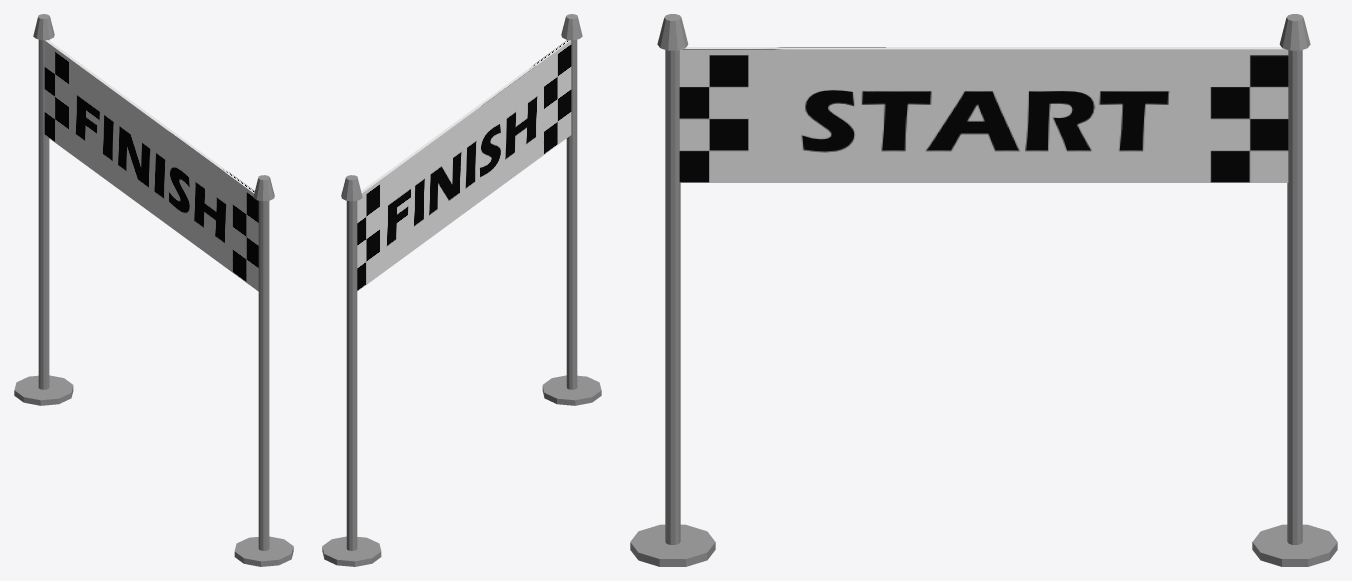
The model's file is BeginFlag.fbx.
3 views of the same model, side by side, from view 1: azimuth 30°, elevation 25°; view 2: azimuth 150°, elevation 25°; view 3: azimuth 270°, elevation 25° (orthographic). The views are drawn at different scales.
Visible parts, largest first — view 1: BeginFlag; view 2: BeginFlag; view 3: BeginFlag.
Part boxes in pixels (bbox=[...]): BeginFlag: bbox=[14, 14, 293, 566]; BeginFlag: bbox=[322, 14, 601, 566]; BeginFlag: bbox=[630, 14, 1337, 566].
Size of the model in its own units: 427 by 3094 by 3726.
